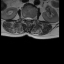CCS_normal: (27, 15, 29, 23)
LFS_normal: (31, 15, 33, 22)
LLS_normal: (29, 15, 31, 22)
RFS_normal: (23, 14, 25, 21)
RLS_normal: (25, 15, 27, 22)
